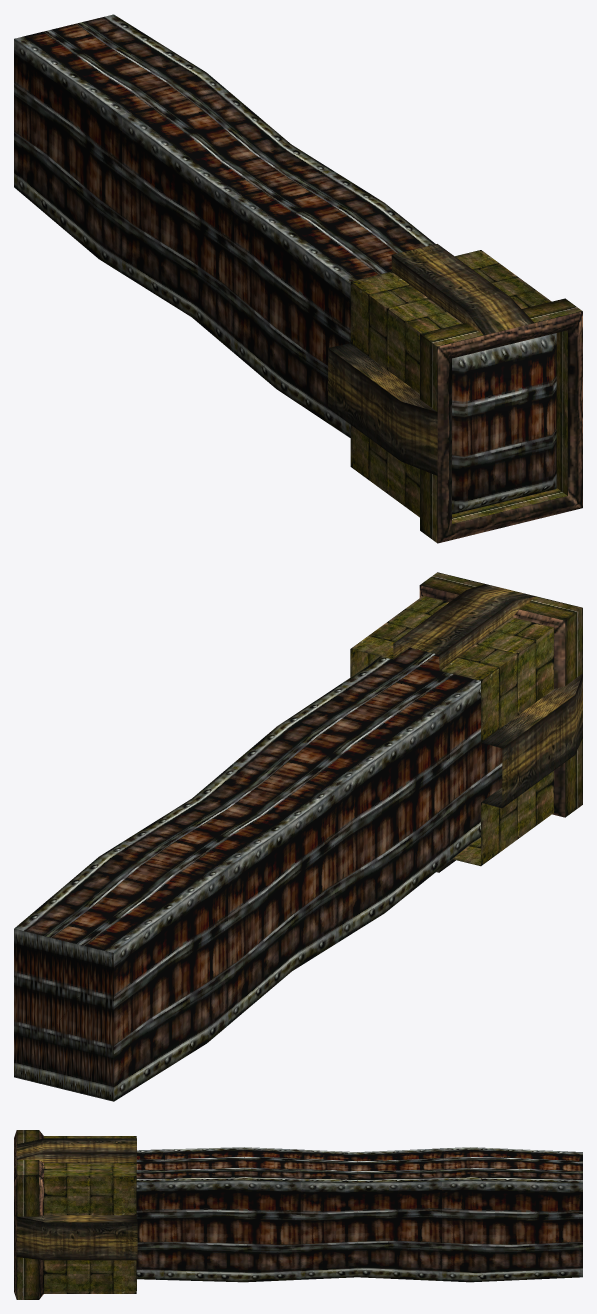
The model's file is CB_PUSHER.fbx.
3 views of the same model, one above another, from view 1: azimuth 30°, elevation 25°; view 2: azimuth 150°, elevation 25°; view 3: azimuth 270°, elevation 25° (orthographic). The views are drawn at different scales.
Visible parts, largest first — view 1: CB_PUSHER; view 2: CB_PUSHER; view 3: CB_PUSHER.
Part boxes in pixels (x1=…): CB_PUSHER: x1=14, y1=14, x2=582, y2=543; CB_PUSHER: x1=14, y1=572, x2=582, y2=1101; CB_PUSHER: x1=14, y1=1130, x2=582, y2=1299.
Bounding box in the file's own units: 11376 × 13581 × 50663.
5 materials, 5 textured.
